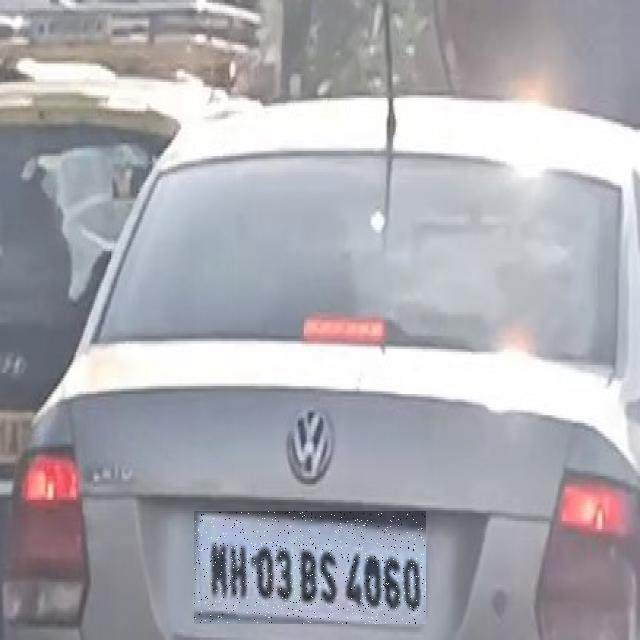Plate: (195, 512, 427, 625)
